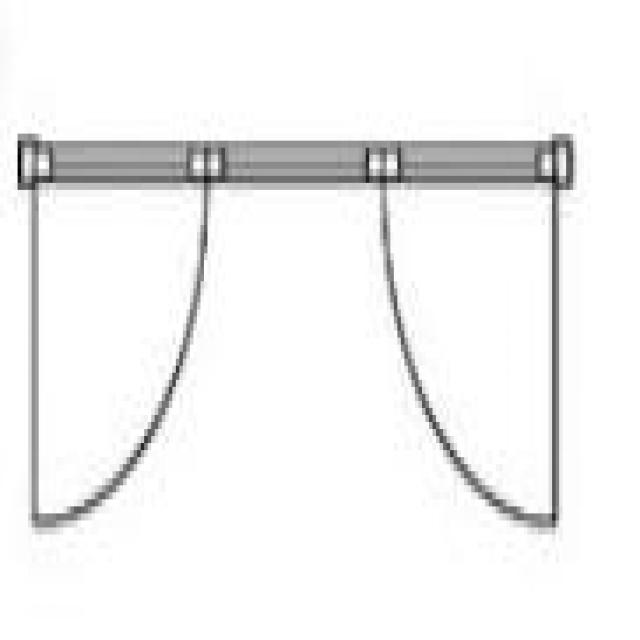door: (18, 134, 566, 514)
